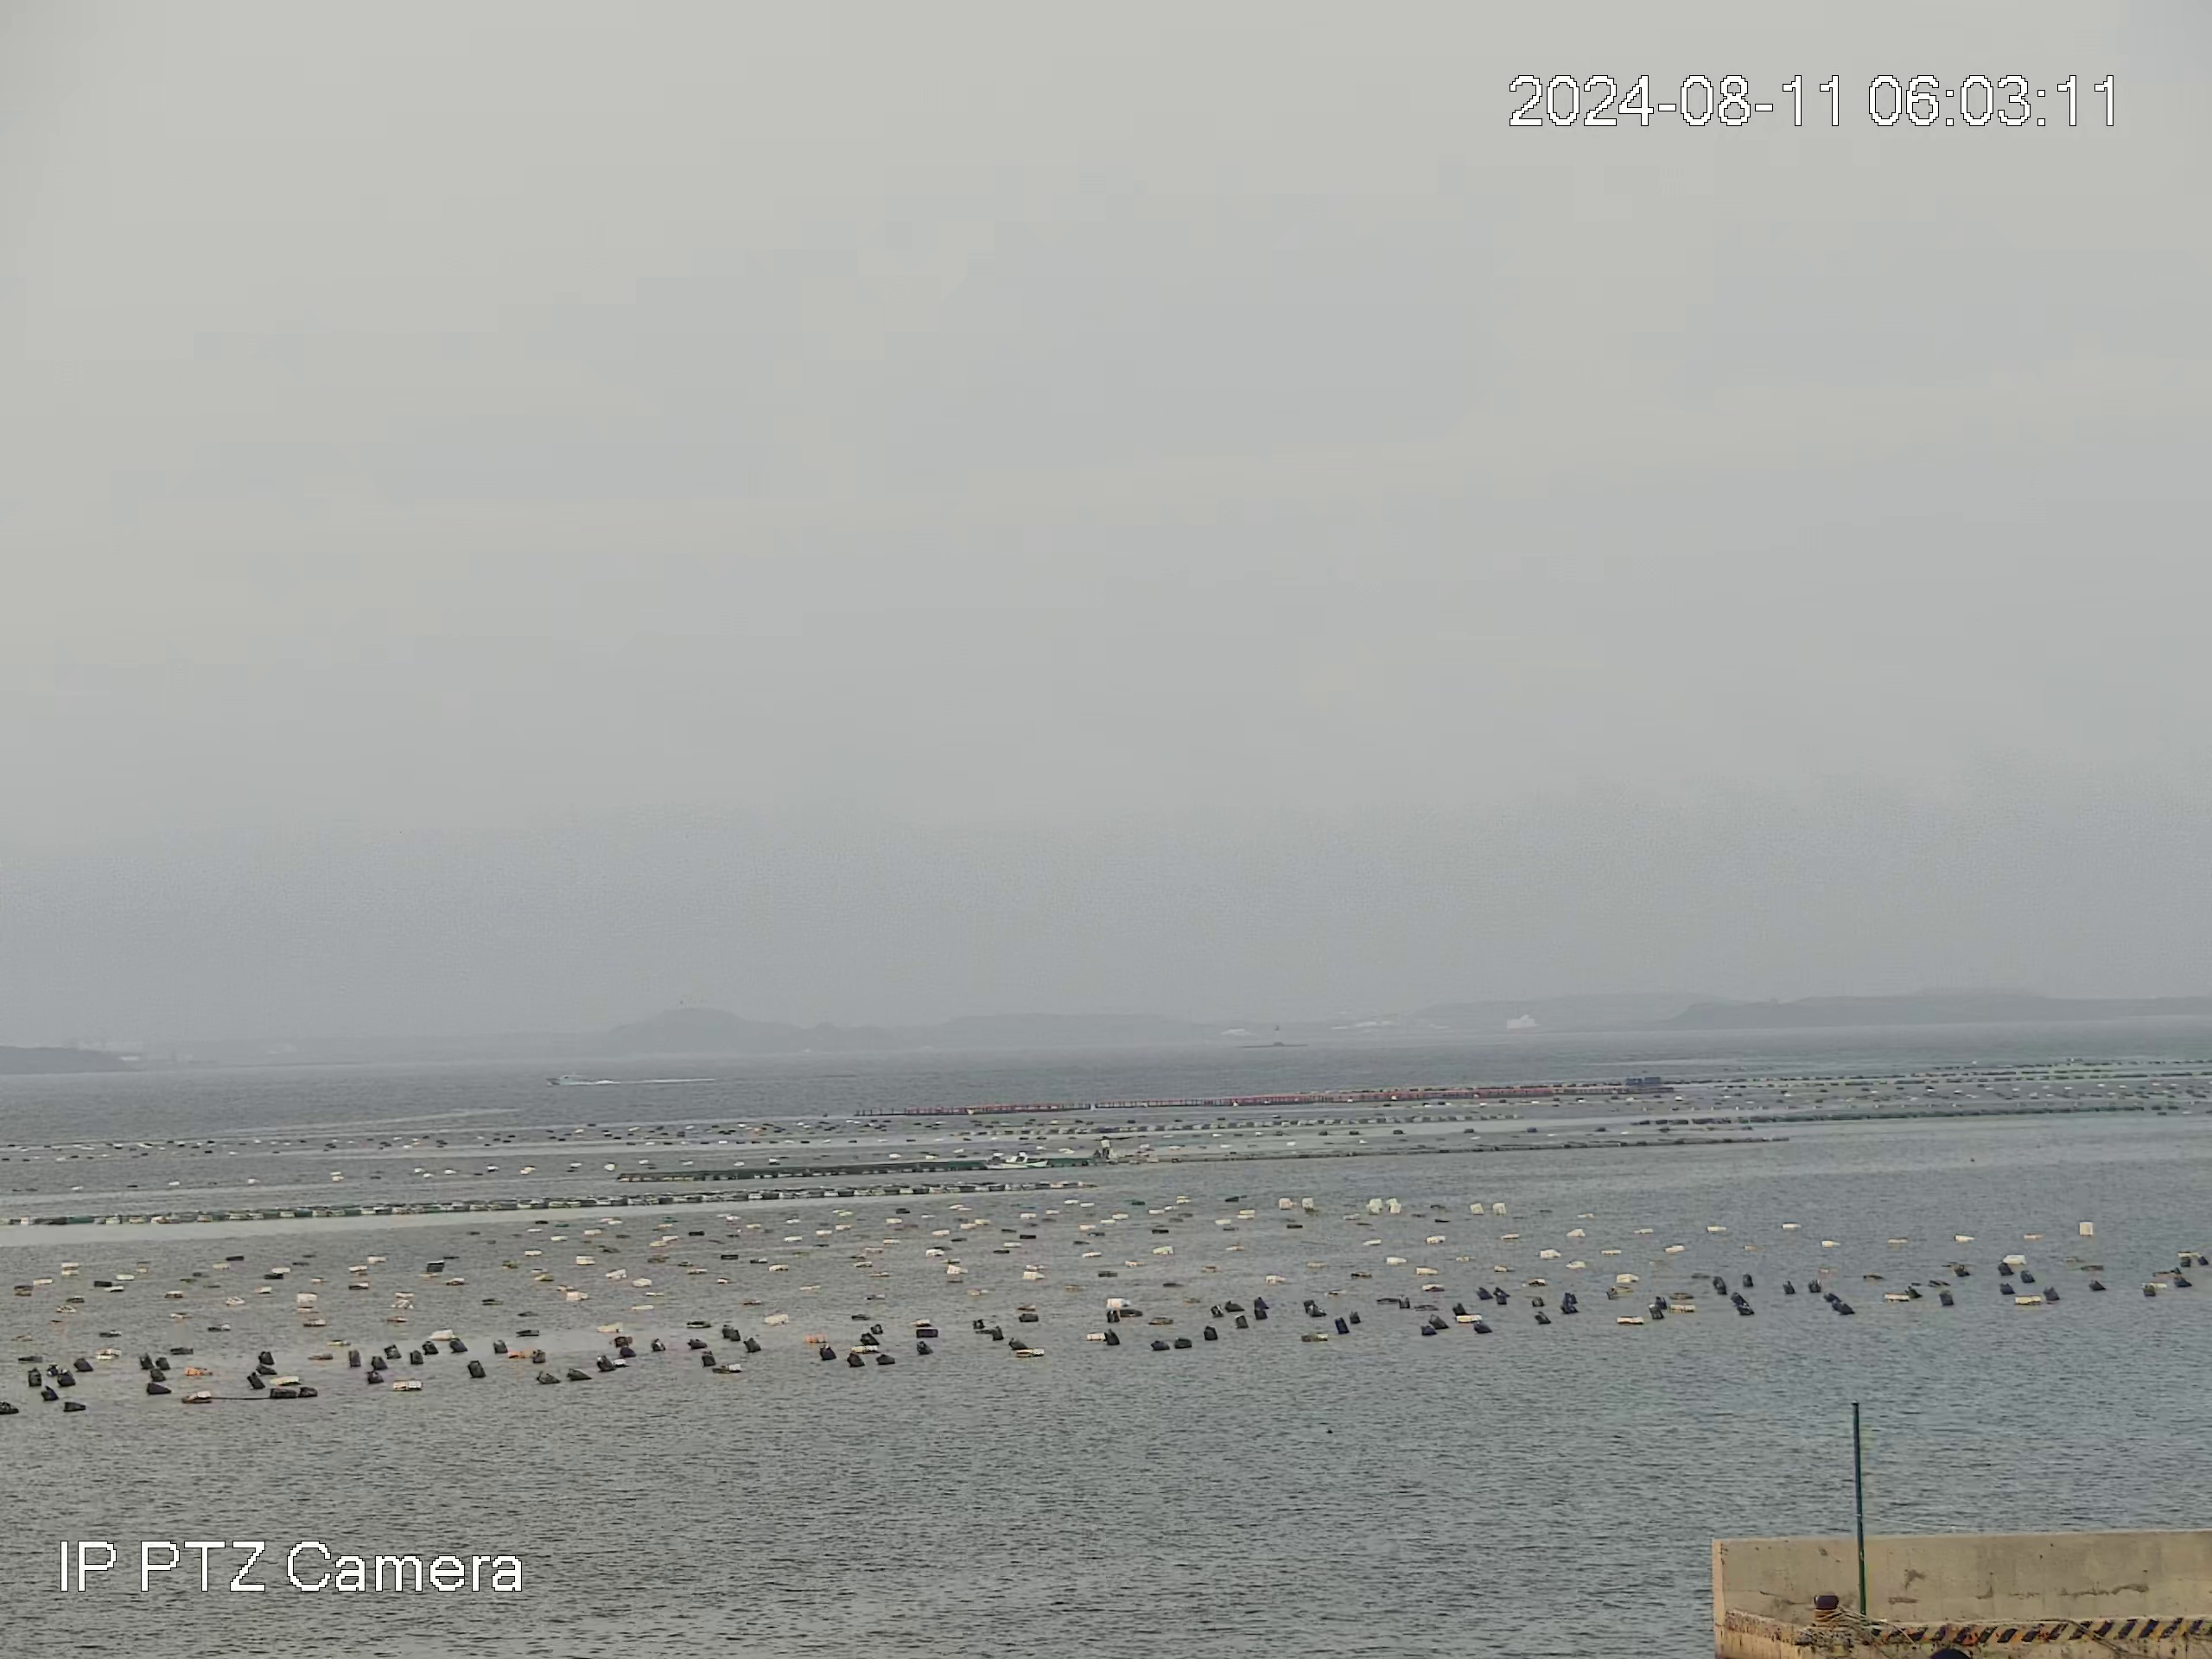boat: (980, 1149, 1051, 1171)
